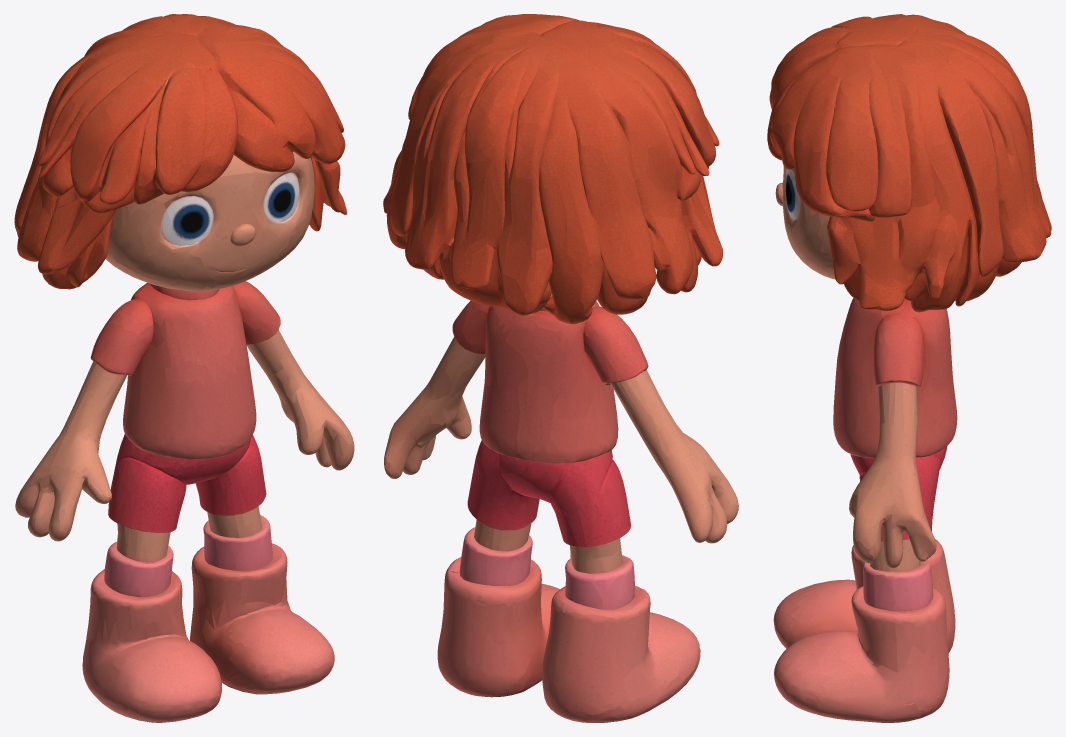
The model's file is A1-clay-tee.glb.
3 renders of one model, left to right at view 1: azimuth 30°, elevation 25°; view 2: azimuth 150°, elevation 25°; view 3: azimuth 270°, elevation 25°, orthographic. The views are drawn at different scales.
Parts seen in each view (by area): view 1: Mesh_0; view 2: Mesh_0; view 3: Mesh_0.
Boxes of the visible parts, x1,y1,x2,y2 form: Mesh_0: (14, 14, 354, 722); Mesh_0: (383, 14, 738, 722); Mesh_0: (767, 14, 1051, 722).
Bounding box in the file's own units: 0.9768 × 1.9 × 0.7653.
1 material, 1 textured.
